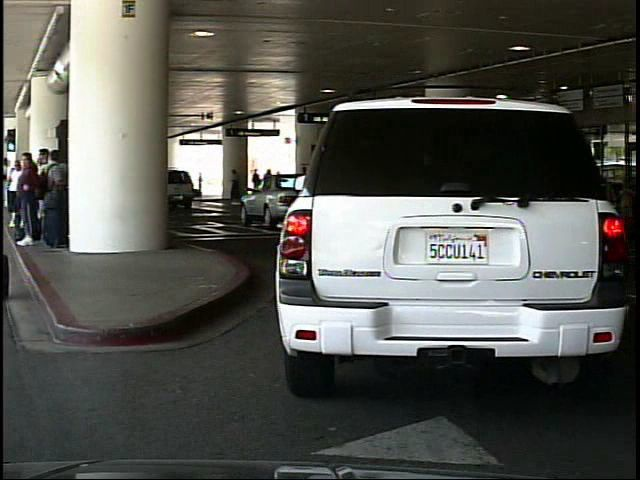person: (229, 167, 242, 201), (198, 170, 206, 197)
